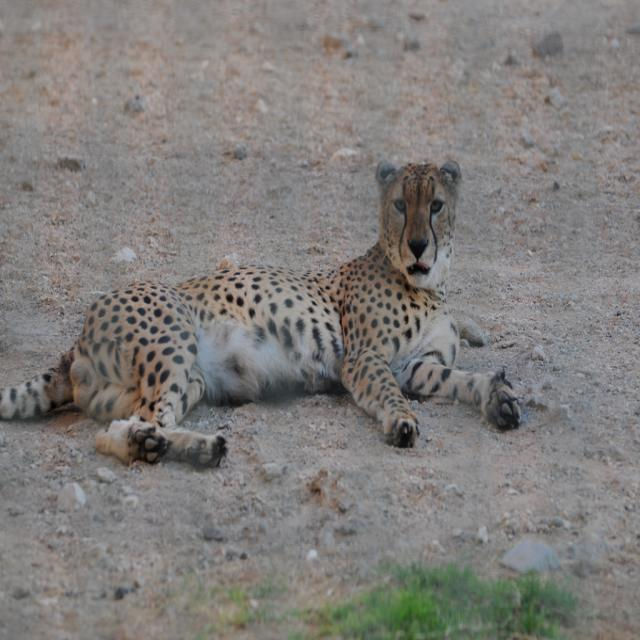Cheetah: (1, 154, 524, 472)
